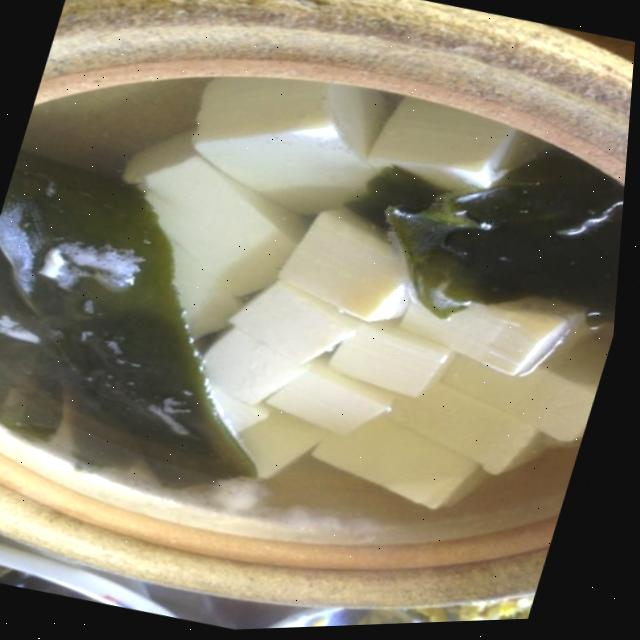豆腐料理: (0, 4, 639, 611)
